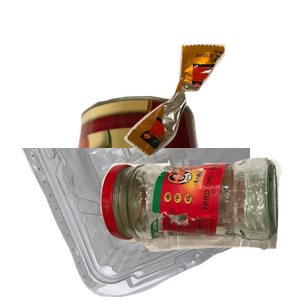glass: (98, 155, 300, 300)
metal: (69, 93, 265, 273)
plastic: (19, 148, 259, 300)
trash: (122, 41, 300, 190)
